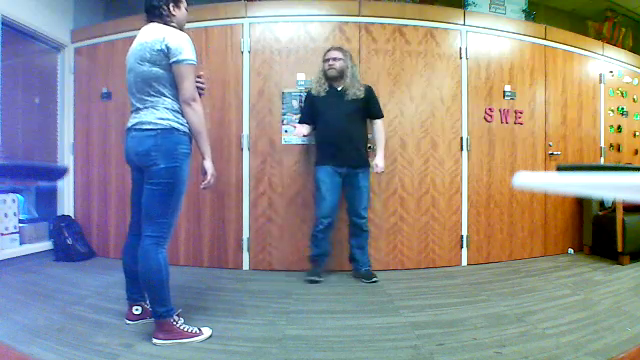land: (280, 116, 316, 141)
